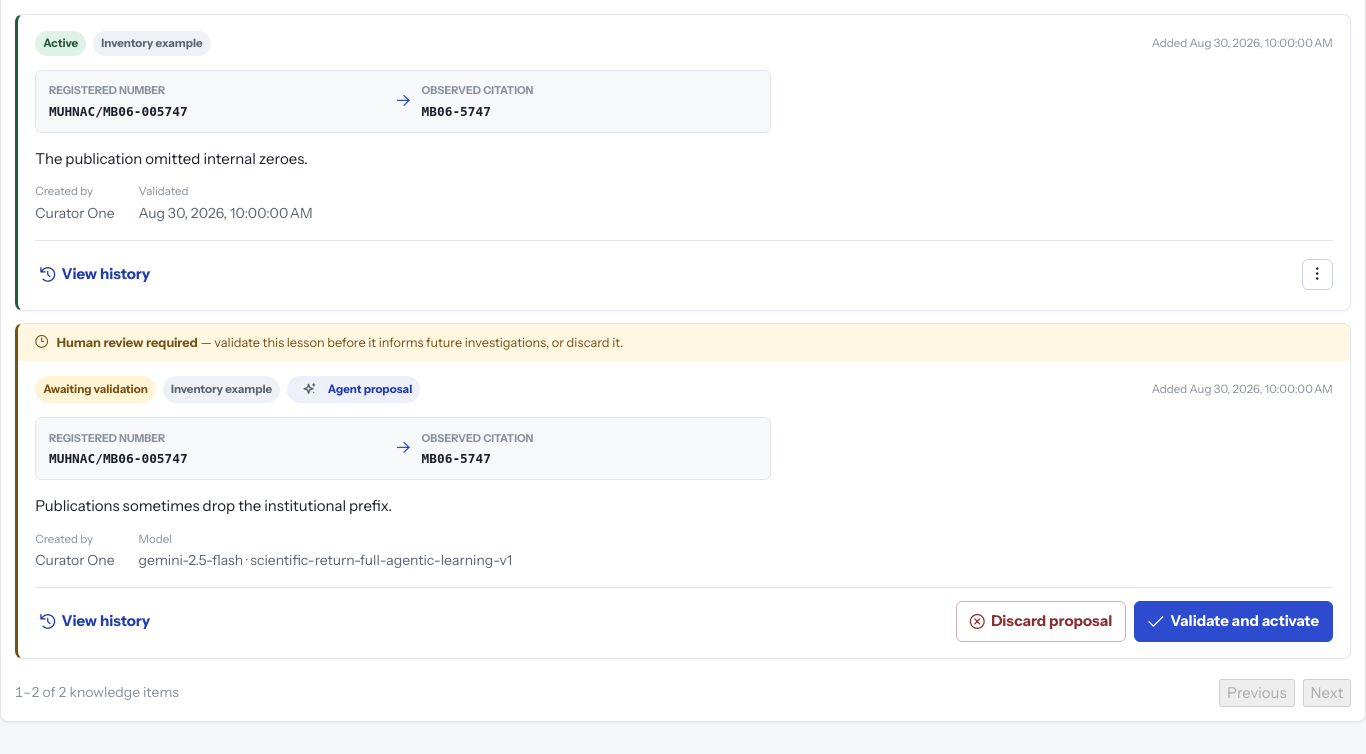
Test: ScientificReturnKnowledgeBasePageComponent › discards an agent proposal without ever activating it
(page scrolled)
Click the button with class "discard" at (1041, 621), box [956,601,1126,642]
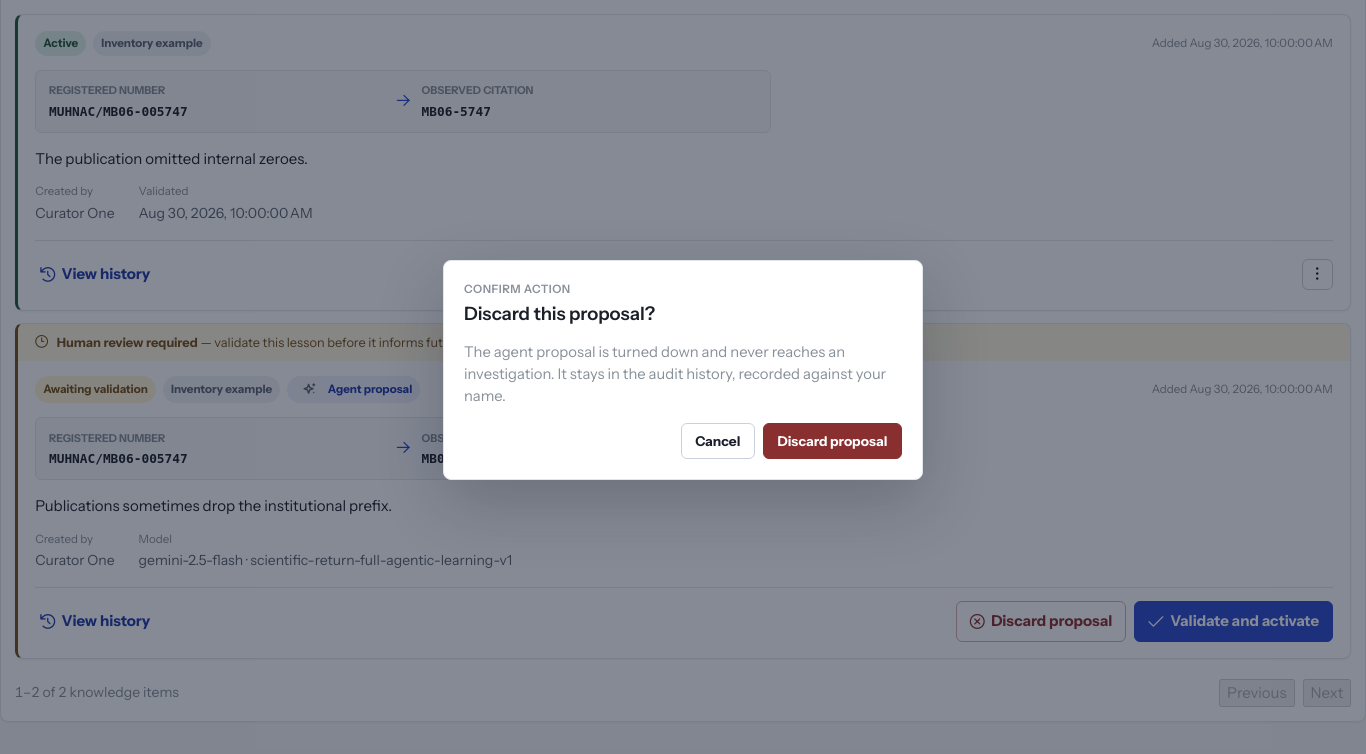
Check: the text "Discard this proposal?" is shown, box [464,302,655,325]
Click the button with class "confirm-modal__button--primary" at (832, 441), box [763,423,902,459]
(page scrolled)
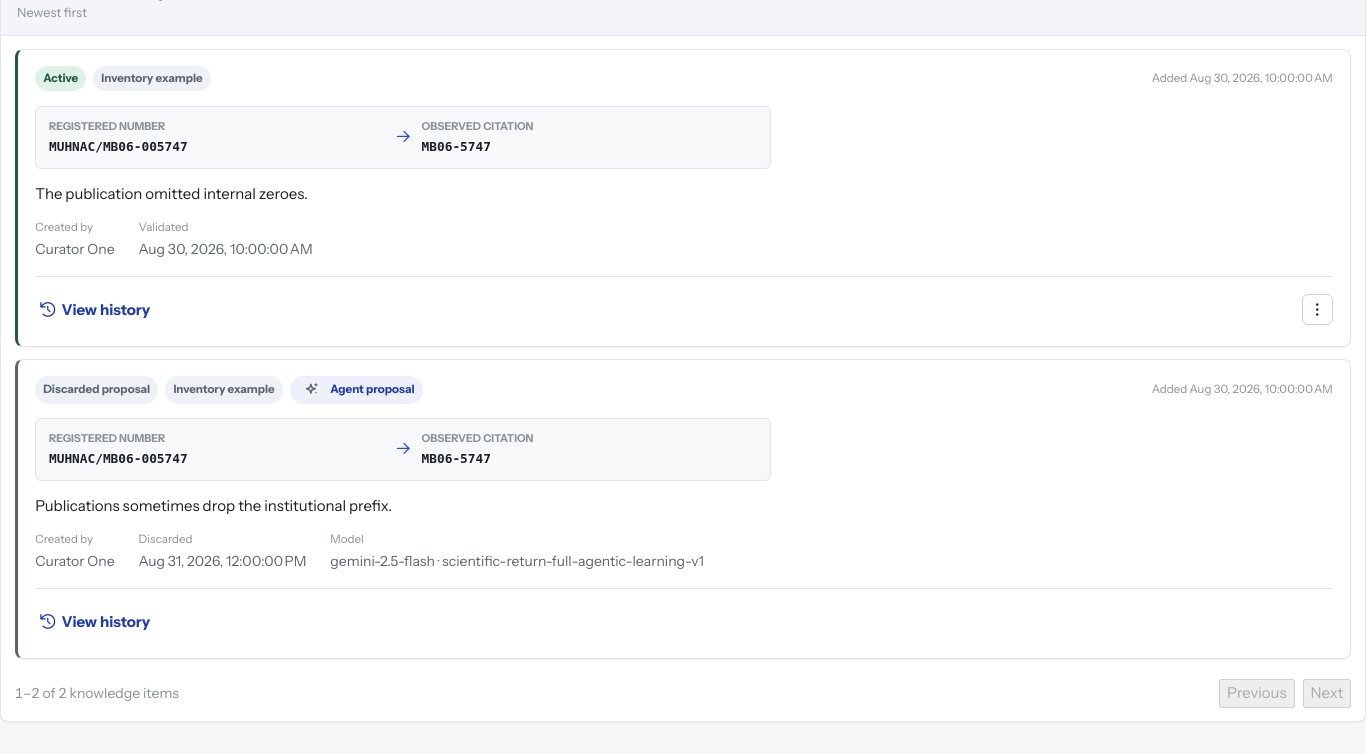
Check: the text "Discarded proposal" is shown, box [35,376,158,404]
Check: the text "Discard proposal" is gone
